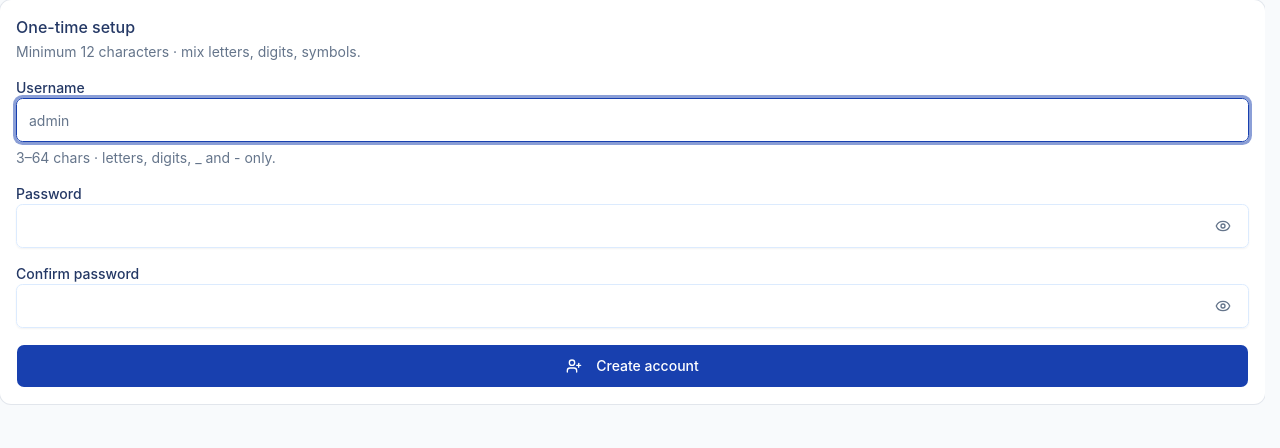
Test: SetupForm — AC-6 › rejects username with invalid chars locally
In the field labelled "Username": (632,120) [16, 98, 1249, 142], type "admin@host"
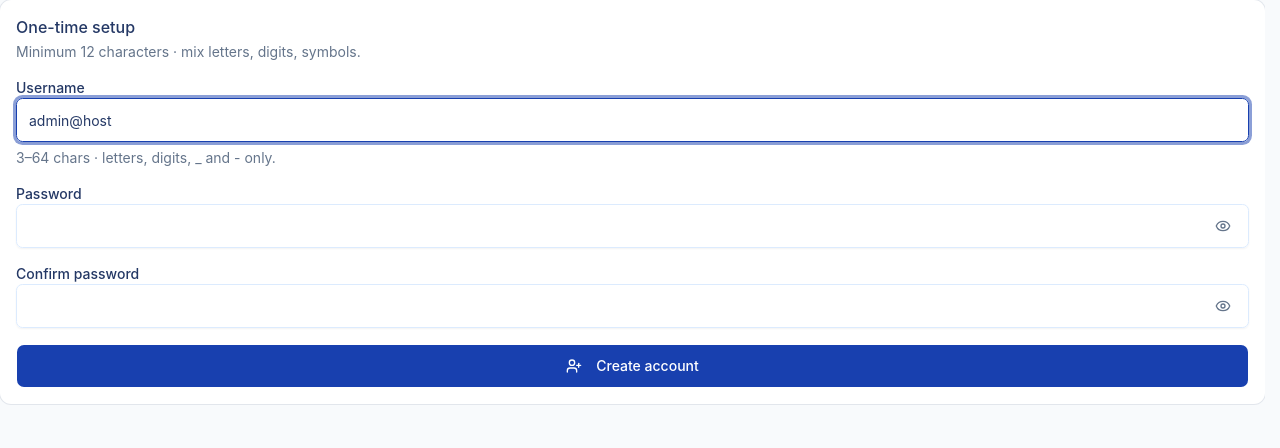
In the password field labelled "Password": (632,226) [16, 204, 1249, 248], type "complex-pass-12c!"
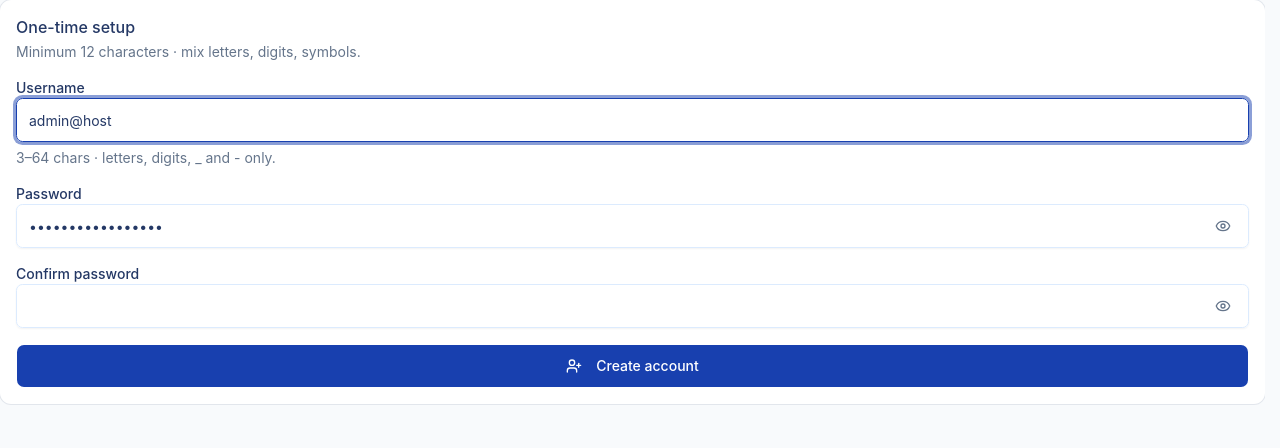
In the password field labelled "Confirm password": (632,306) [16, 284, 1249, 328], type "complex-pass-12c!"
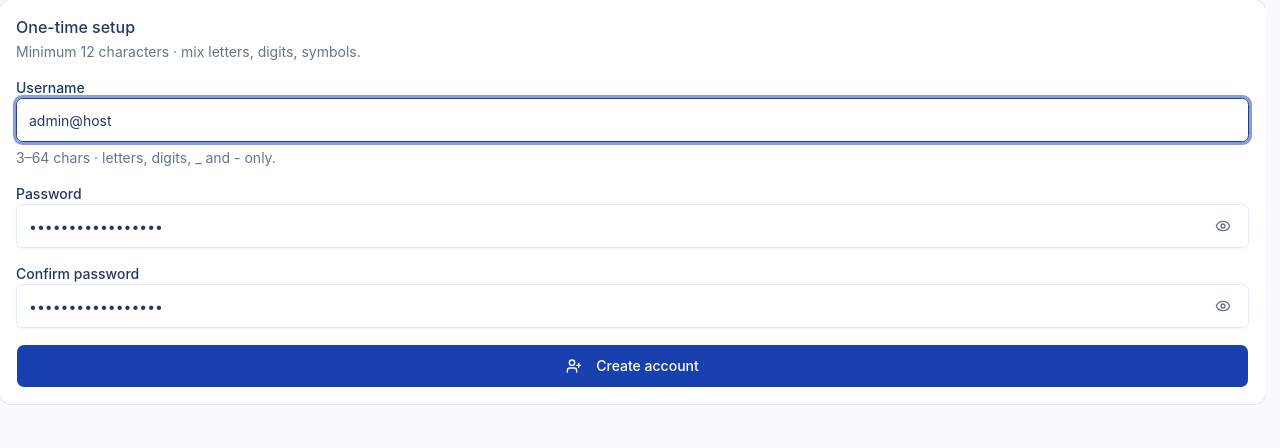
Click the button "Create account": (632,366) [16, 344, 1249, 388]
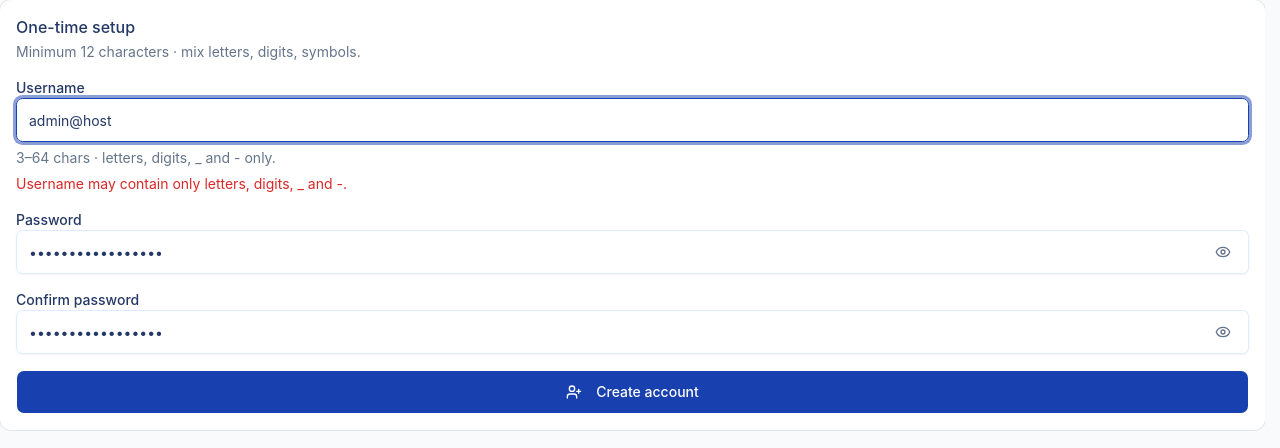
Result: the text "Username may contain only letters, digits, _ and -." is shown at [16, 175, 347, 192]
